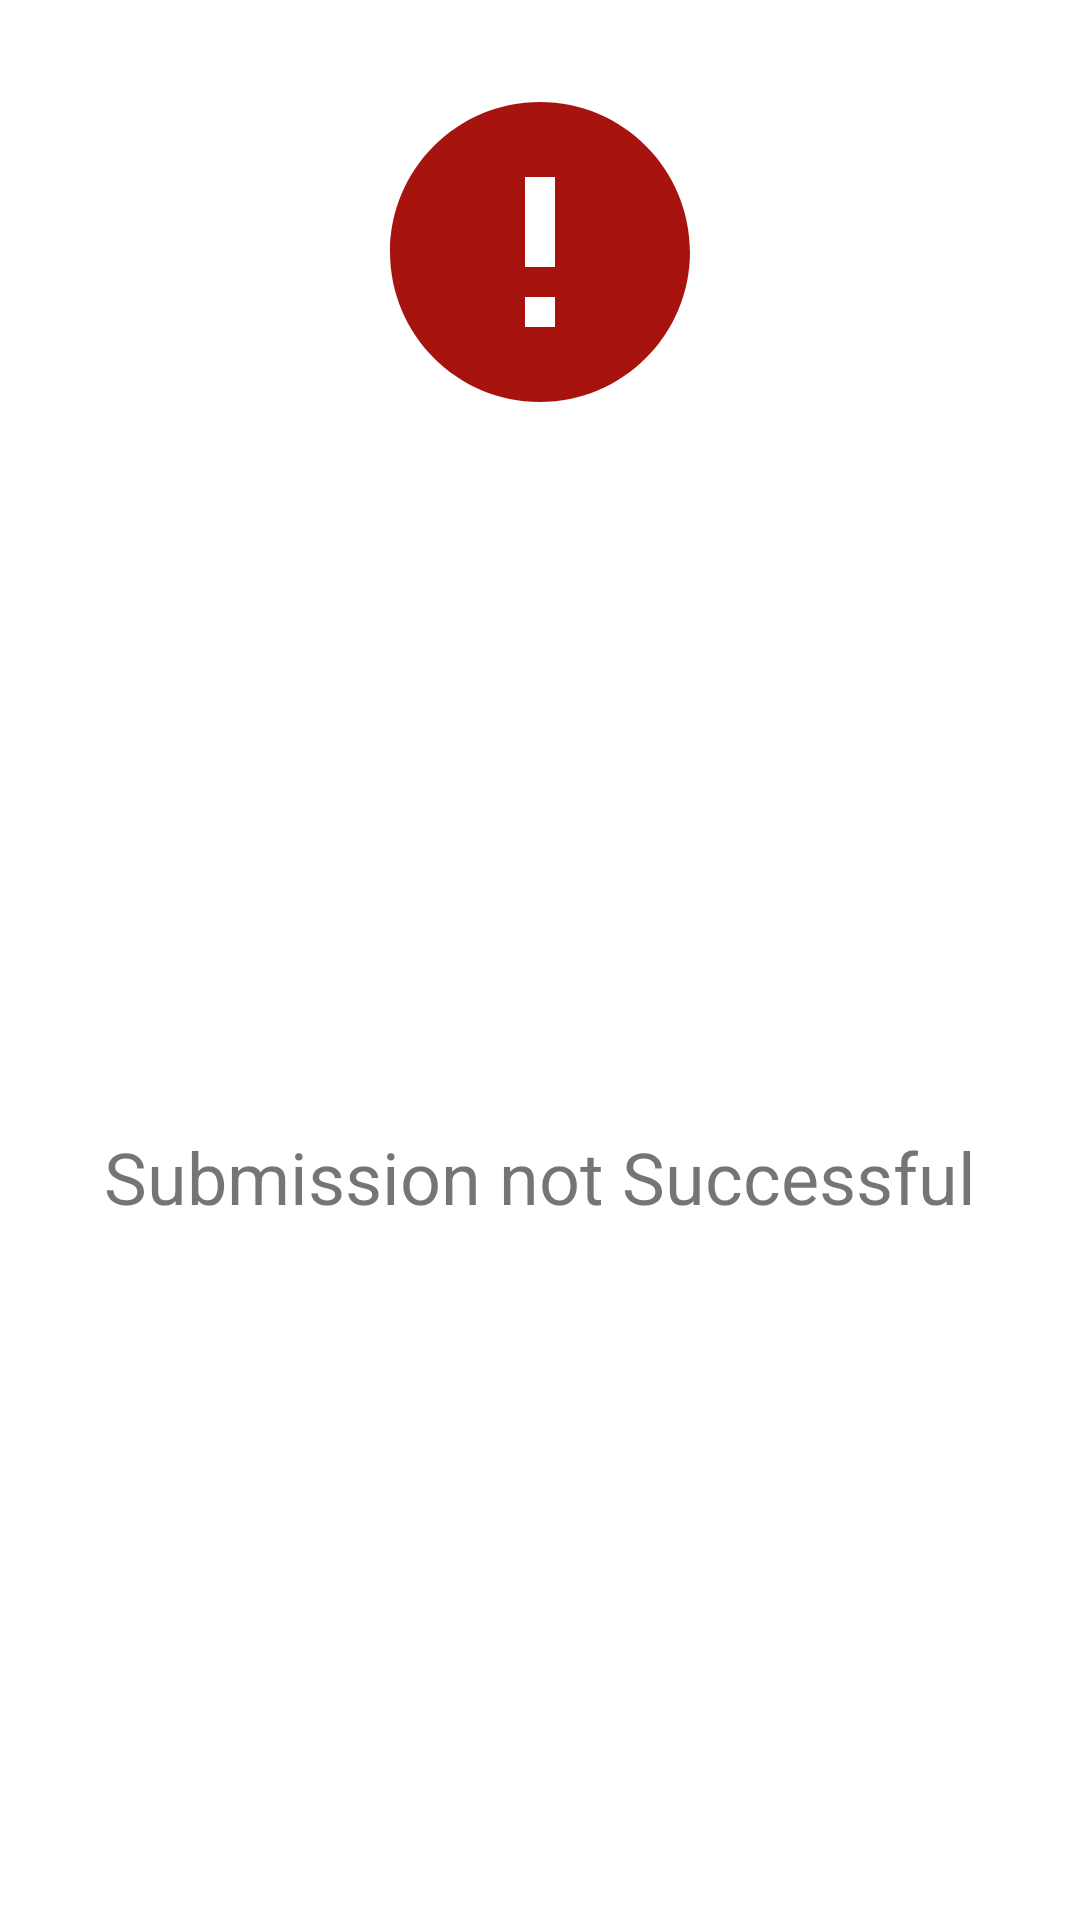

Screen size 1080px x 1920px. Icon name, then its box in pixels as box(x1, y1, x2, y2):
error: box(390, 102, 690, 402)
